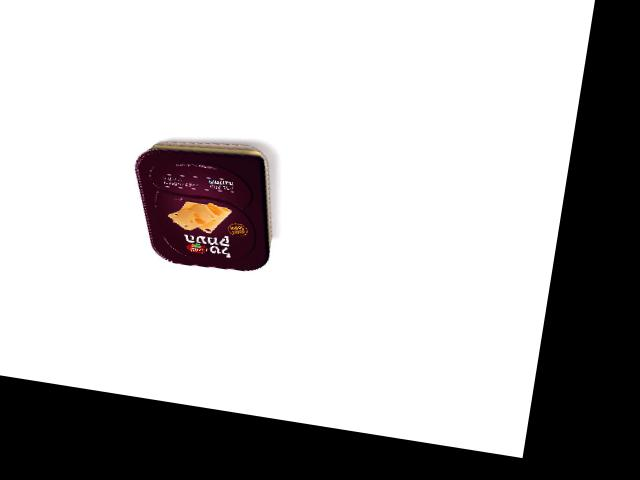cheese: (120, 129, 285, 278)
